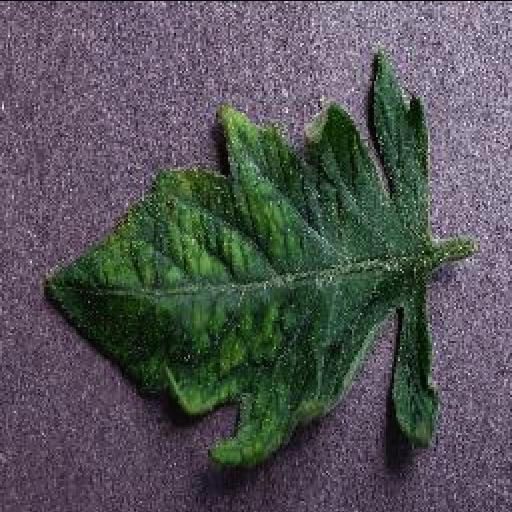disease_tomato: (34, 47, 444, 469)
